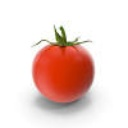tomato: (33, 41, 95, 101)
